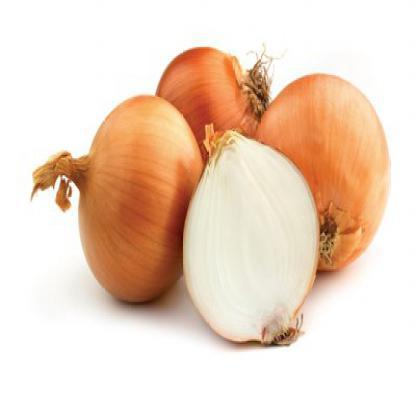onion: (66, 90, 202, 312), (267, 48, 394, 280), (194, 142, 308, 342)
